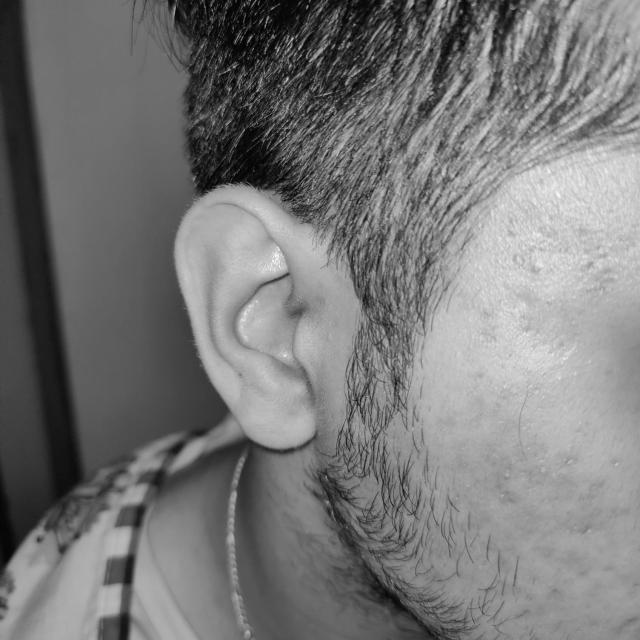ear: (174, 186, 315, 449), (315, 254, 322, 259), (301, 275, 303, 279), (315, 251, 317, 253), (320, 269, 321, 270)
